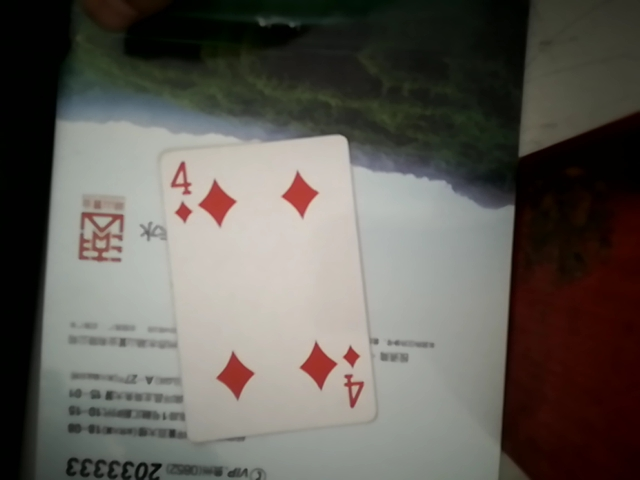fk 4: (147, 123, 370, 453)
